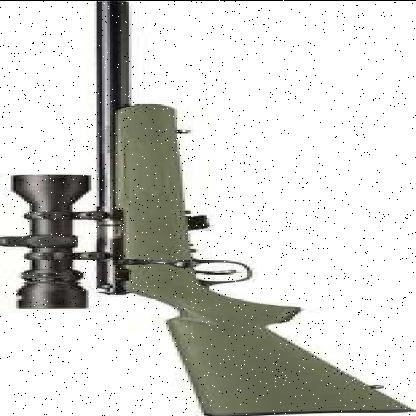rifle: (5, 1, 414, 416)
